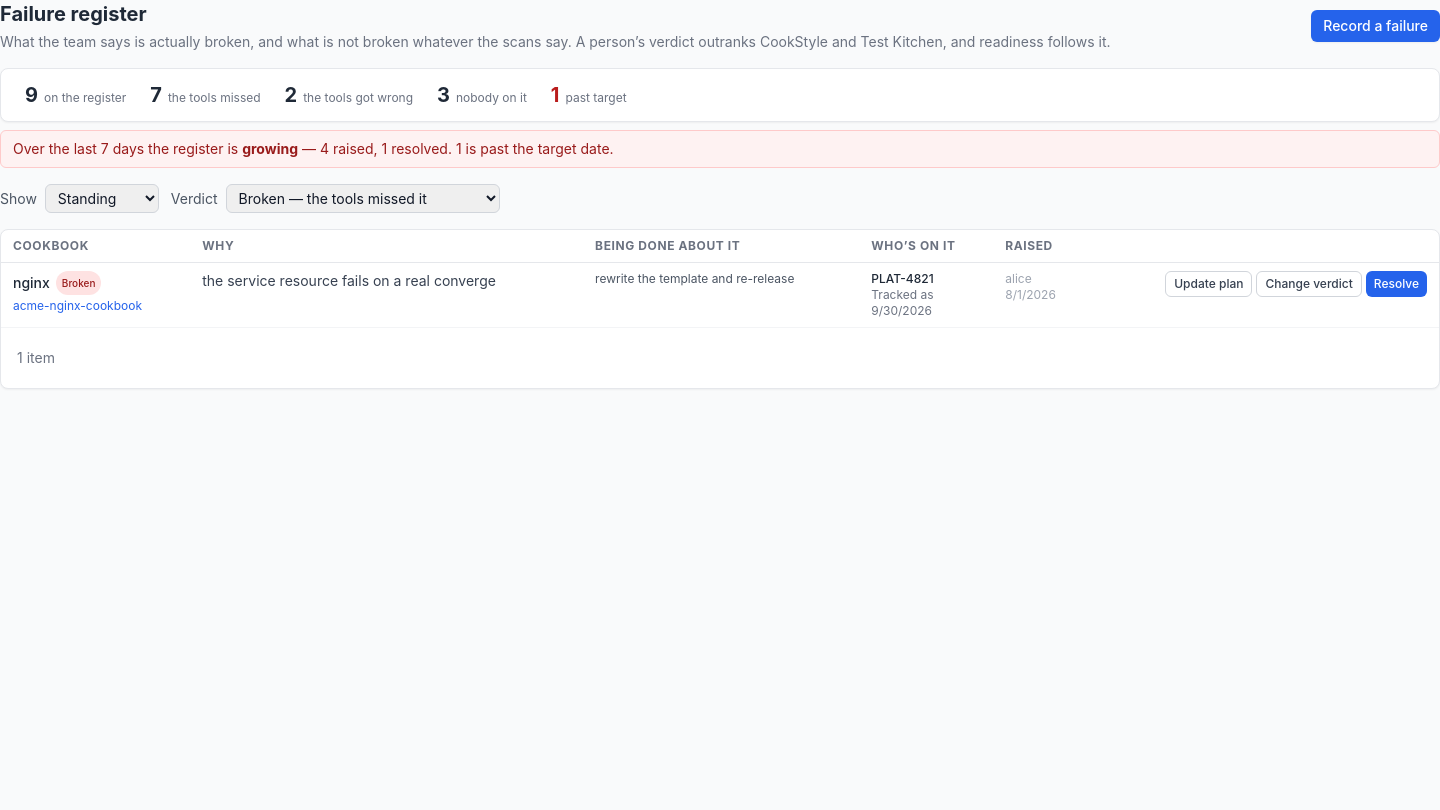
FailureRegisterPage › says why nothing matched when the catalogue has no such repo
Click the button "Record a failure" at (1376, 26), box [1311,10,1439,42]
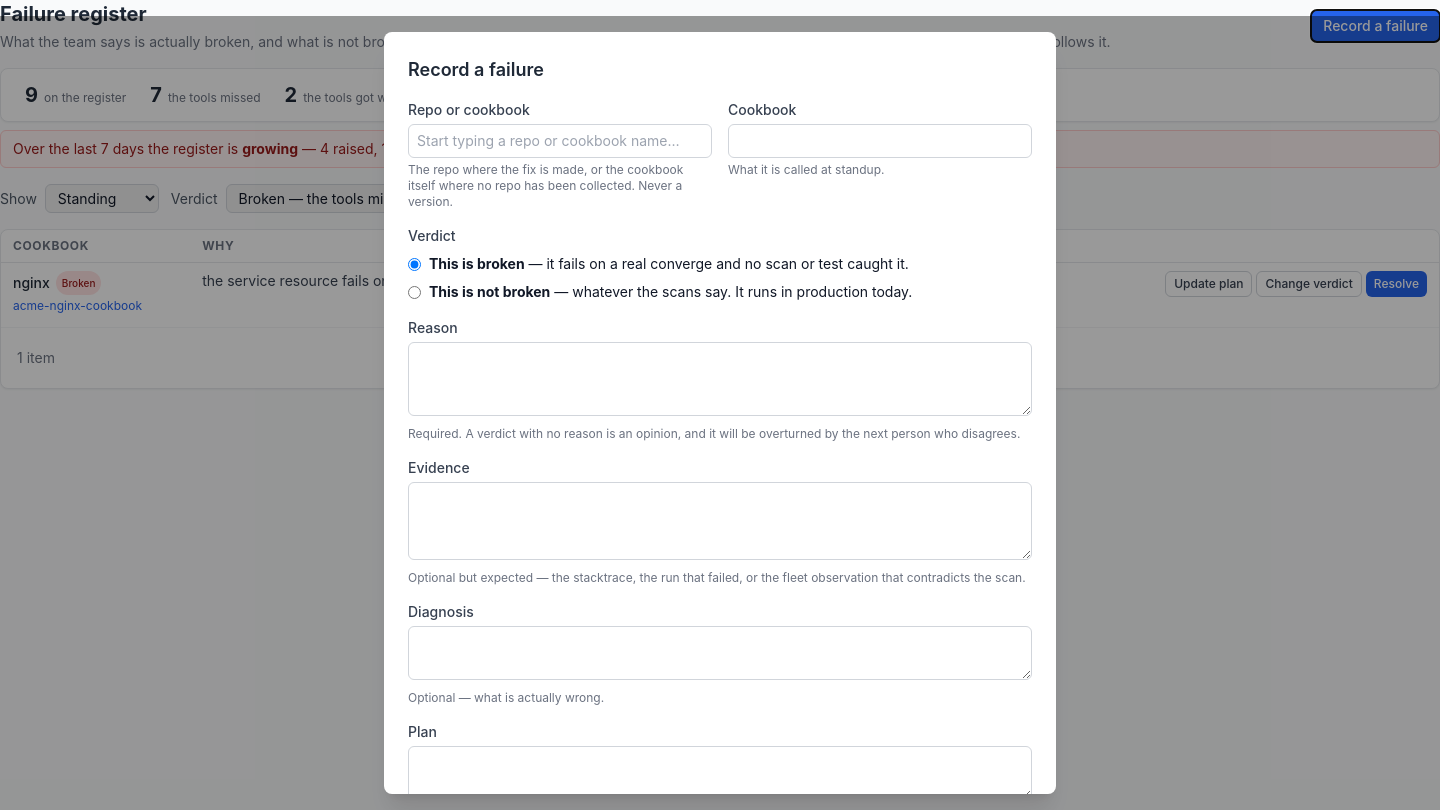
Type "nonesuch" into the dropdown labelled "Repo or cookbook" at (560, 141), box [408,124,712,158]
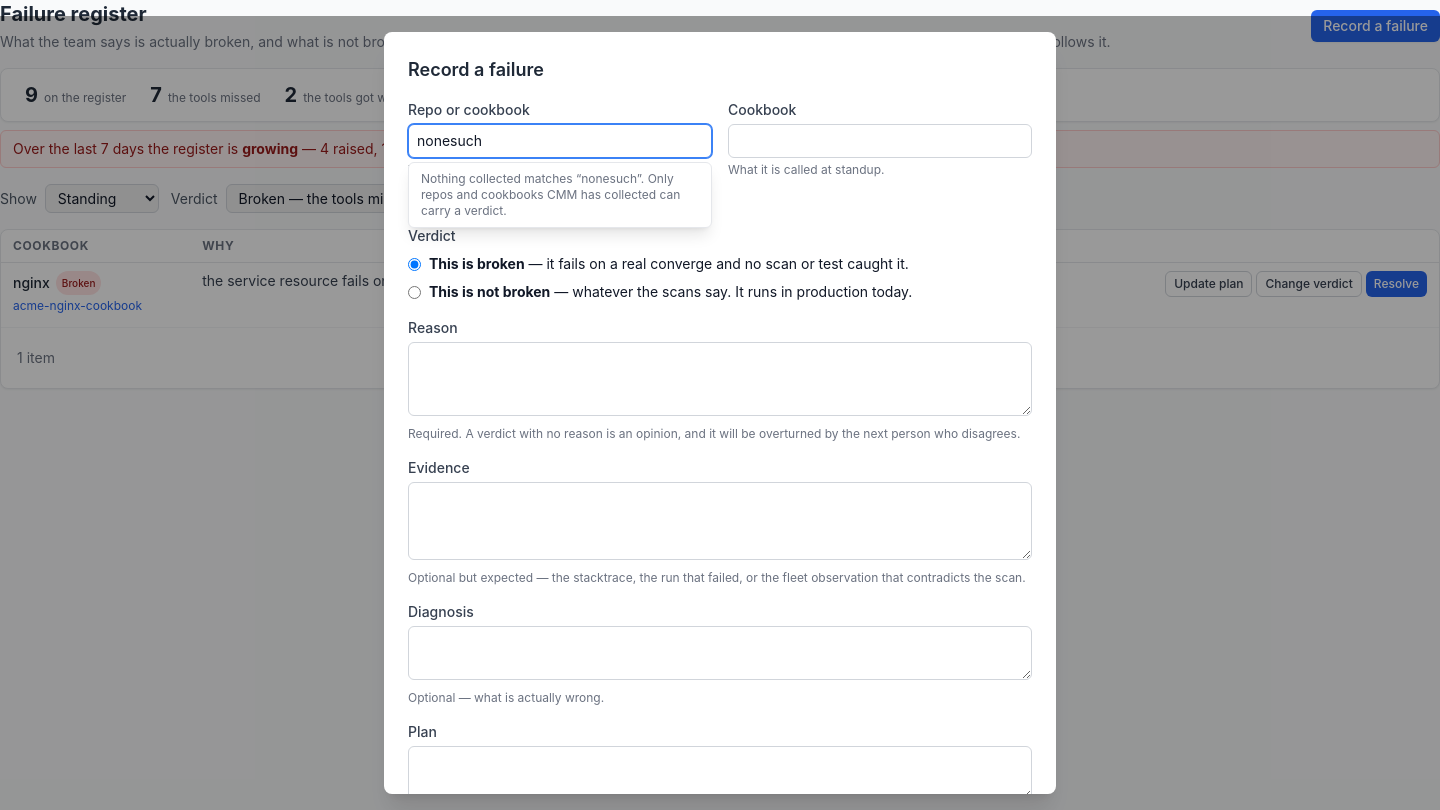
Expected: the list item "Only repos and cookbooks CMM has collected" is shown, [421,171,680,218]
